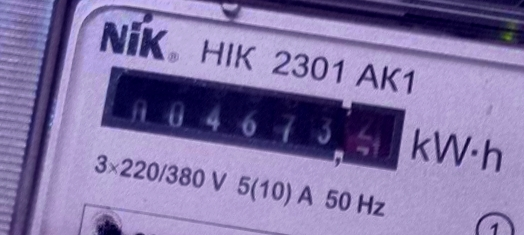0: (127, 93, 152, 126), (165, 97, 187, 130)
2: (354, 109, 379, 144)
3: (314, 112, 336, 148)
4: (203, 99, 226, 136)
6: (236, 104, 262, 140)
7: (273, 109, 301, 149)
screen: (95, 60, 412, 181)
